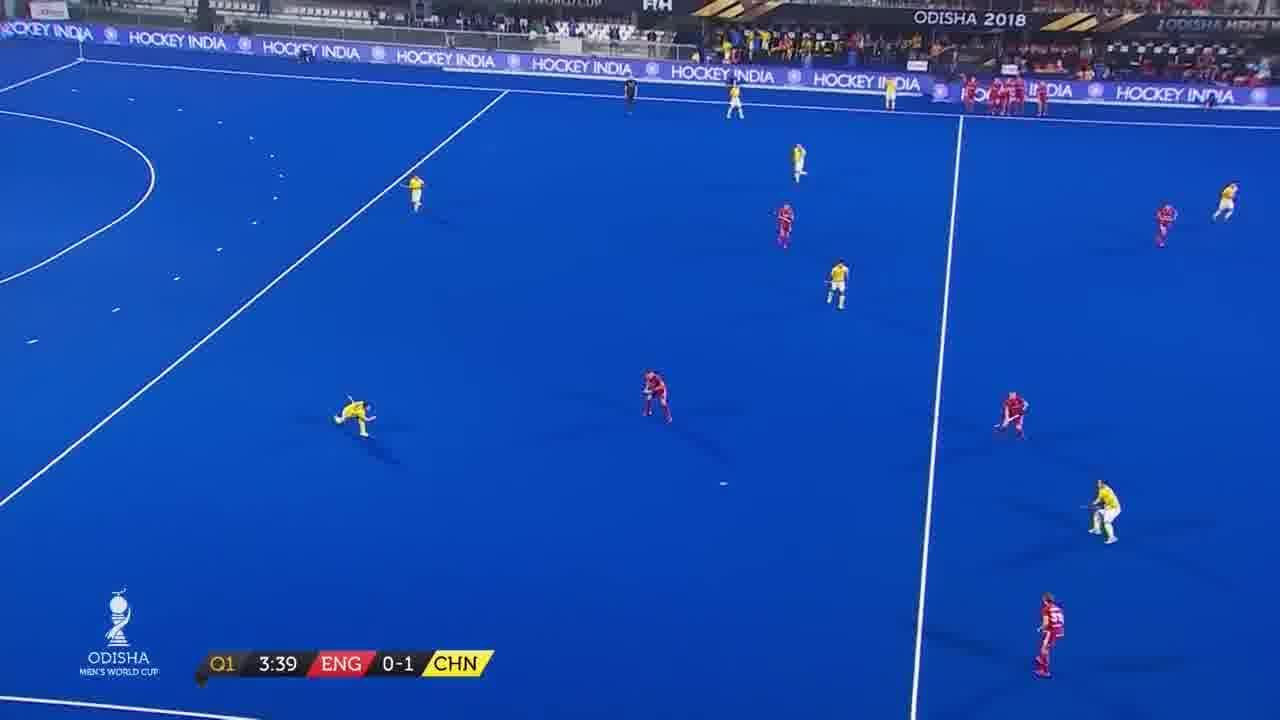ball: (718, 480, 729, 490)
